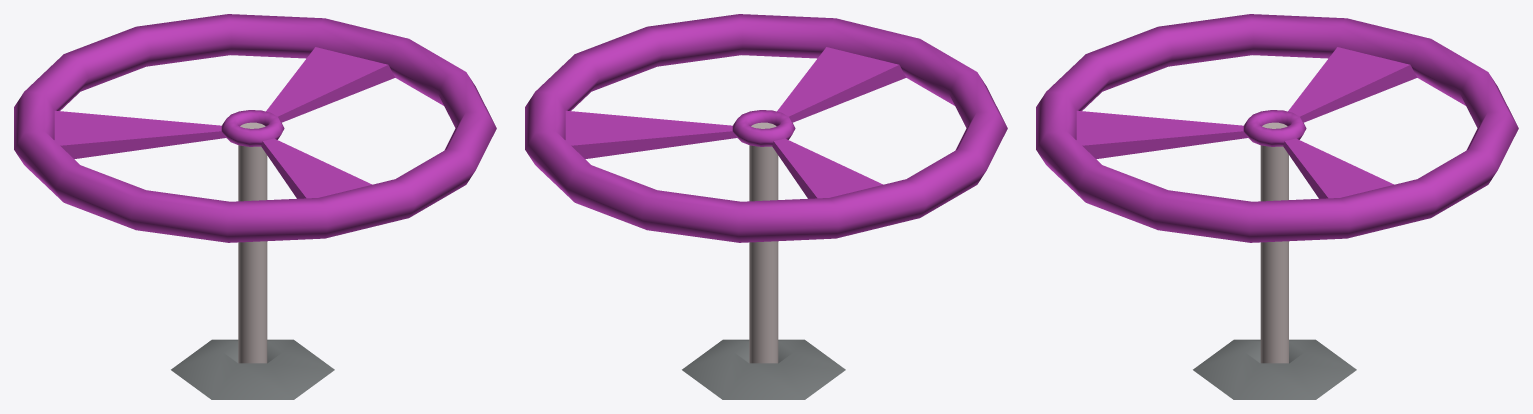
File: Valve.fbx
The picture shows the model from 3 angles, left to right: view 1: azimuth 30°, elevation 25°; view 2: azimuth 150°, elevation 25°; view 3: azimuth 270°, elevation 25°; orthographic projection.
Visible parts, largest first — view 1: Valve_Handle, Valve_Panel; view 2: Valve_Handle, Valve_Panel; view 3: Valve_Handle, Valve_Panel.
Part boxes in pixels (box(x1,y1,x2,y2)): Valve_Handle: box(14, 14, 496, 363); Valve_Panel: box(171, 339, 334, 399); Valve_Handle: box(525, 14, 1007, 363); Valve_Panel: box(682, 339, 845, 399); Valve_Handle: box(1036, 14, 1518, 363); Valve_Panel: box(1193, 339, 1356, 399).
Size of the model in its own units: 272 by 159 by 271.
